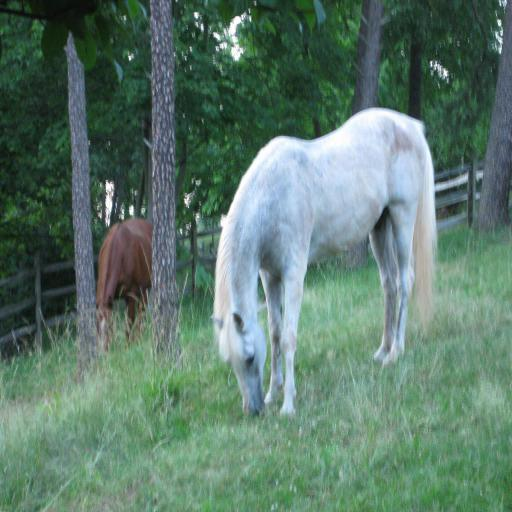horse: (212, 104, 442, 416), (95, 217, 155, 348)
